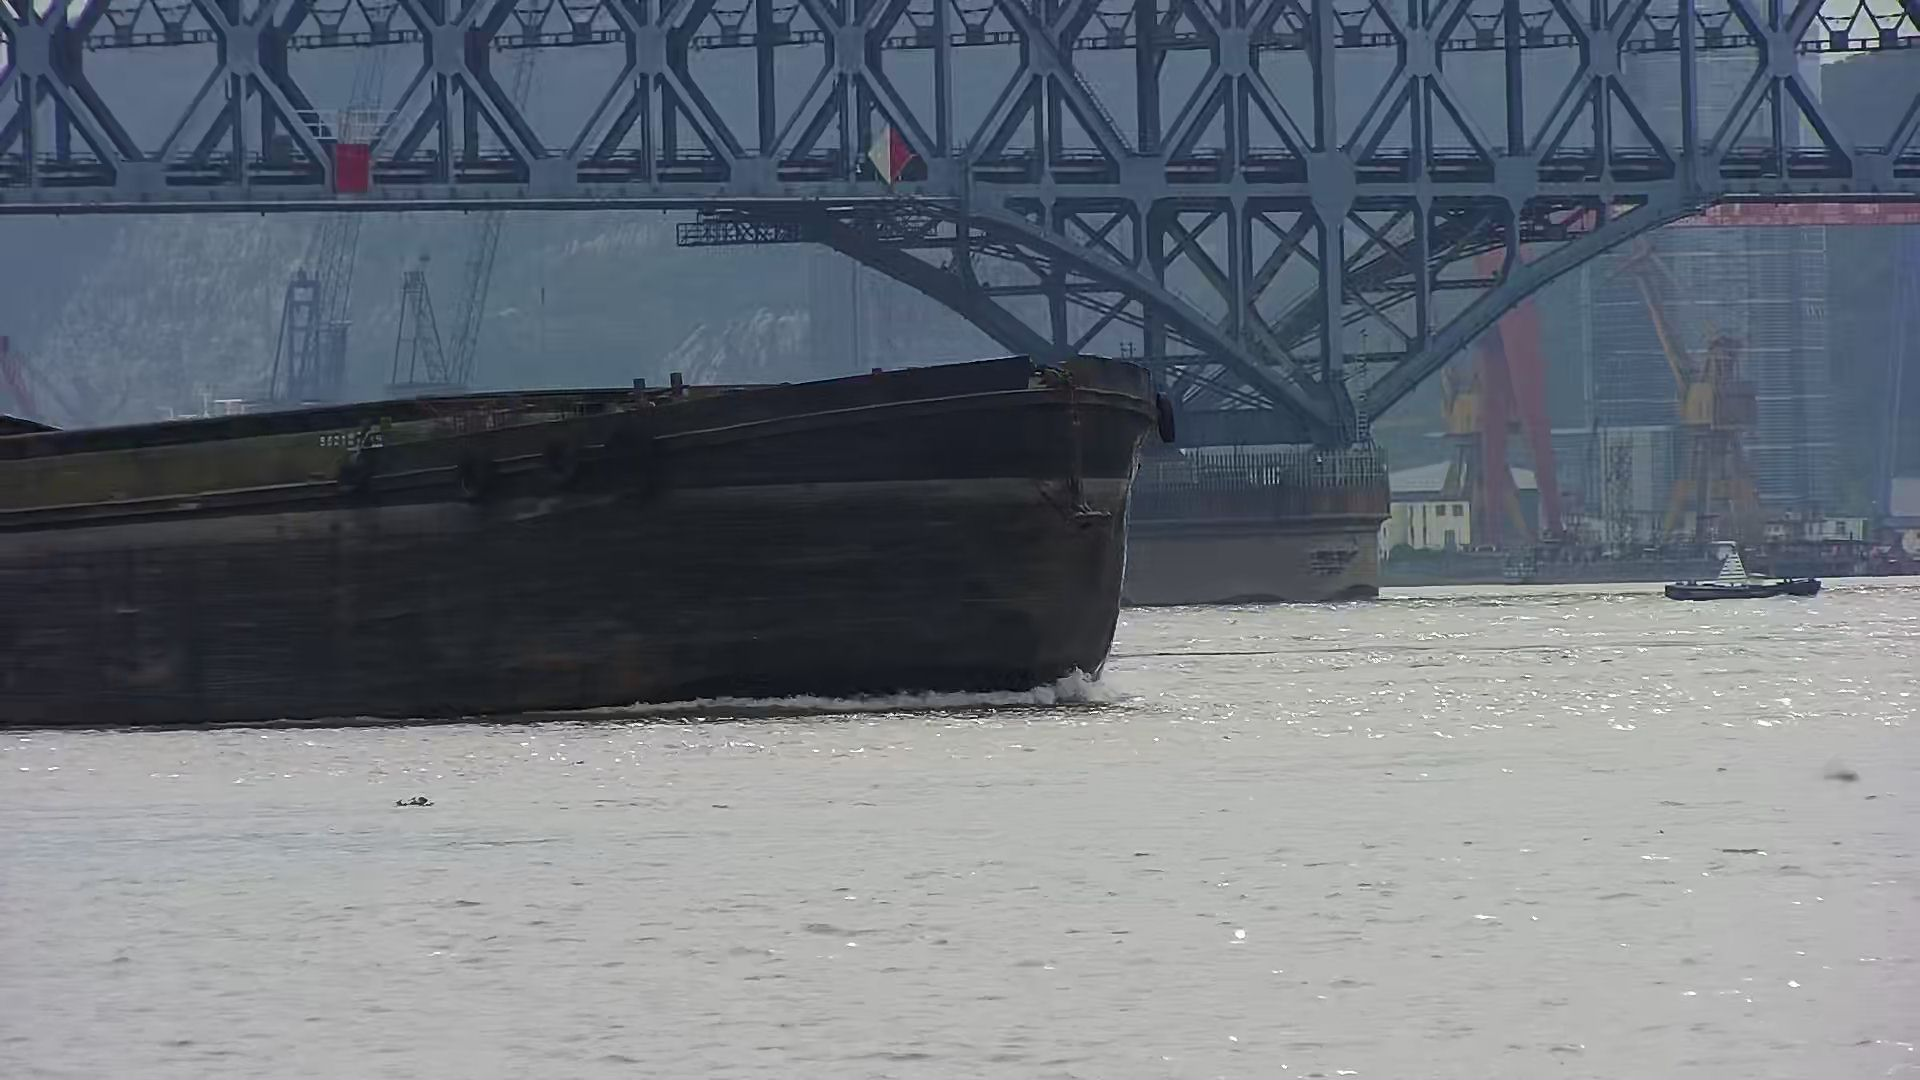boat: (1638, 535, 1840, 613)
bridge: (1, 1, 1917, 651)
rubbish: (386, 785, 436, 816)
ship: (1, 334, 1197, 742)
